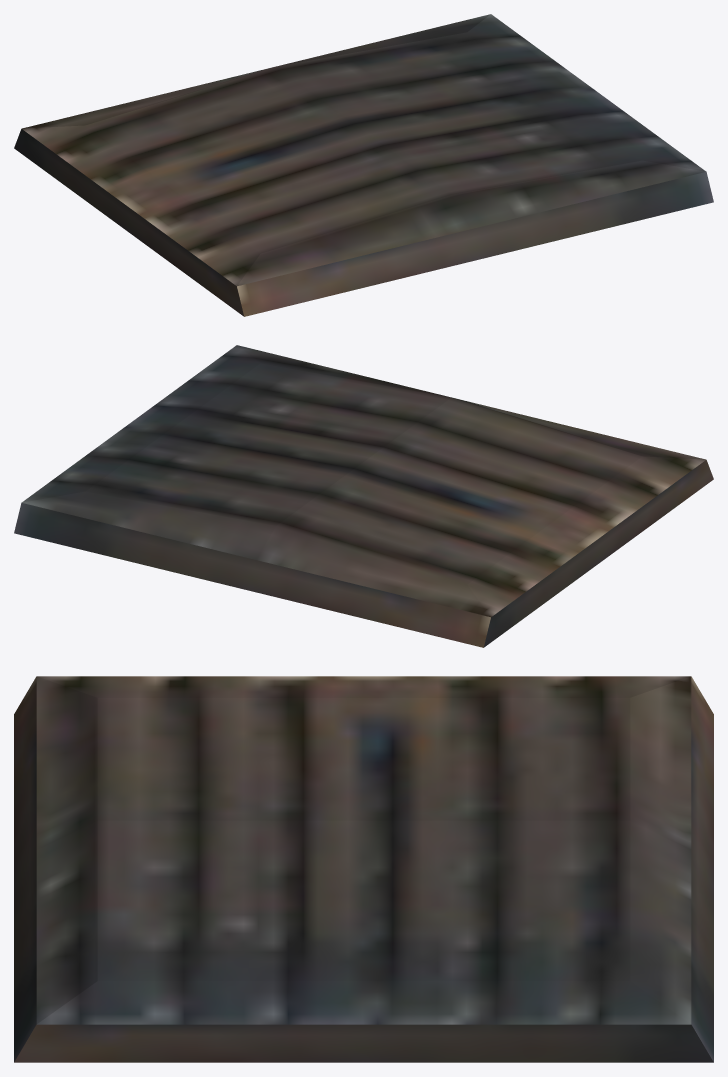
File: Urban_DumpsterLid2_Model.fbx
3 renders of one model, top to bottom at view 1: azimuth 30°, elevation 25°; view 2: azimuth 150°, elevation 25°; view 3: azimuth 270°, elevation 25°, orthographic. The views are drawn at different scales.
Visible parts, largest first — view 1: Urban_DumpsterLid2_Mesh; view 2: Urban_DumpsterLid2_Mesh; view 3: Urban_DumpsterLid2_Mesh.
Boxes of the visible parts, x1=… form: Urban_DumpsterLid2_Mesh: x1=14, y1=14, x2=713, y2=316; Urban_DumpsterLid2_Mesh: x1=14, y1=345, x2=713, y2=647; Urban_DumpsterLid2_Mesh: x1=14, y1=676, x2=713, y2=1062.
Bounding box in the file's own units: 1.93 × 0.1752 × 1.64.
